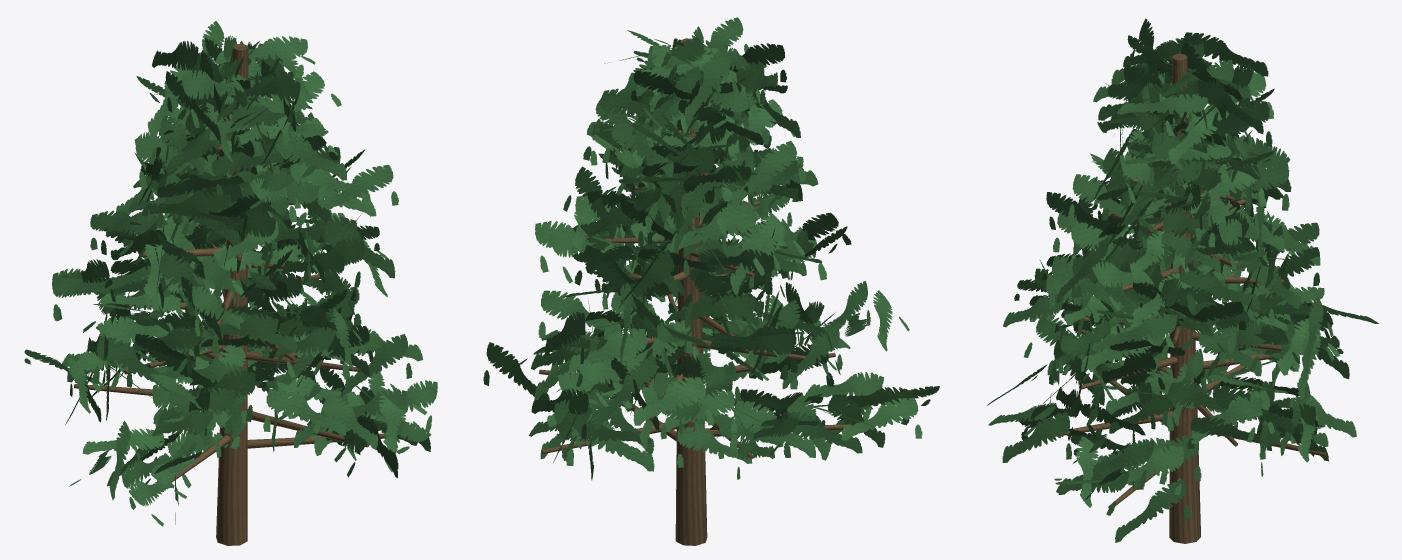
3 views of the same model, side by side, from view 1: azimuth 30°, elevation 25°; view 2: azimuth 150°, elevation 25°; view 3: azimuth 270°, elevation 25° (orthographic). The views are drawn at different scales.
Parts seen in each view (by area): view 1: pine-needle, pine-bark; view 2: pine-needle, pine-bark; view 3: pine-needle, pine-bark.
Part boxes in pixels (box(x1,y1,x2,y2)): pine-needle: box(24, 21, 437, 526); pine-bark: box(74, 44, 407, 545); pine-needle: box(483, 17, 939, 480); pine-bark: box(539, 38, 850, 545); pine-needle: box(987, 18, 1378, 542); pine-bark: box(1046, 53, 1326, 543).
Bounding box in the file's own units: 8.06 × 10.26 × 7.64.
2 materials, 2 textured.
